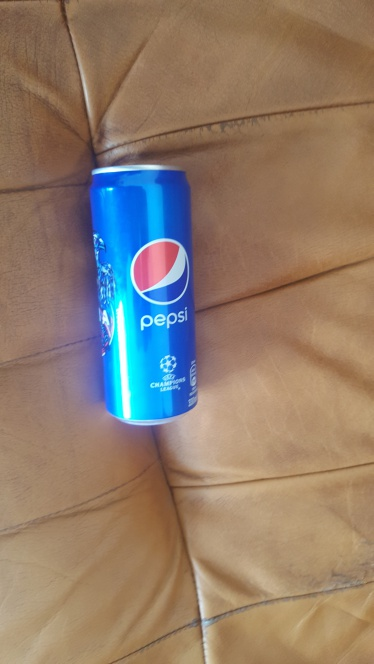pepsi: (85, 154, 204, 430)
